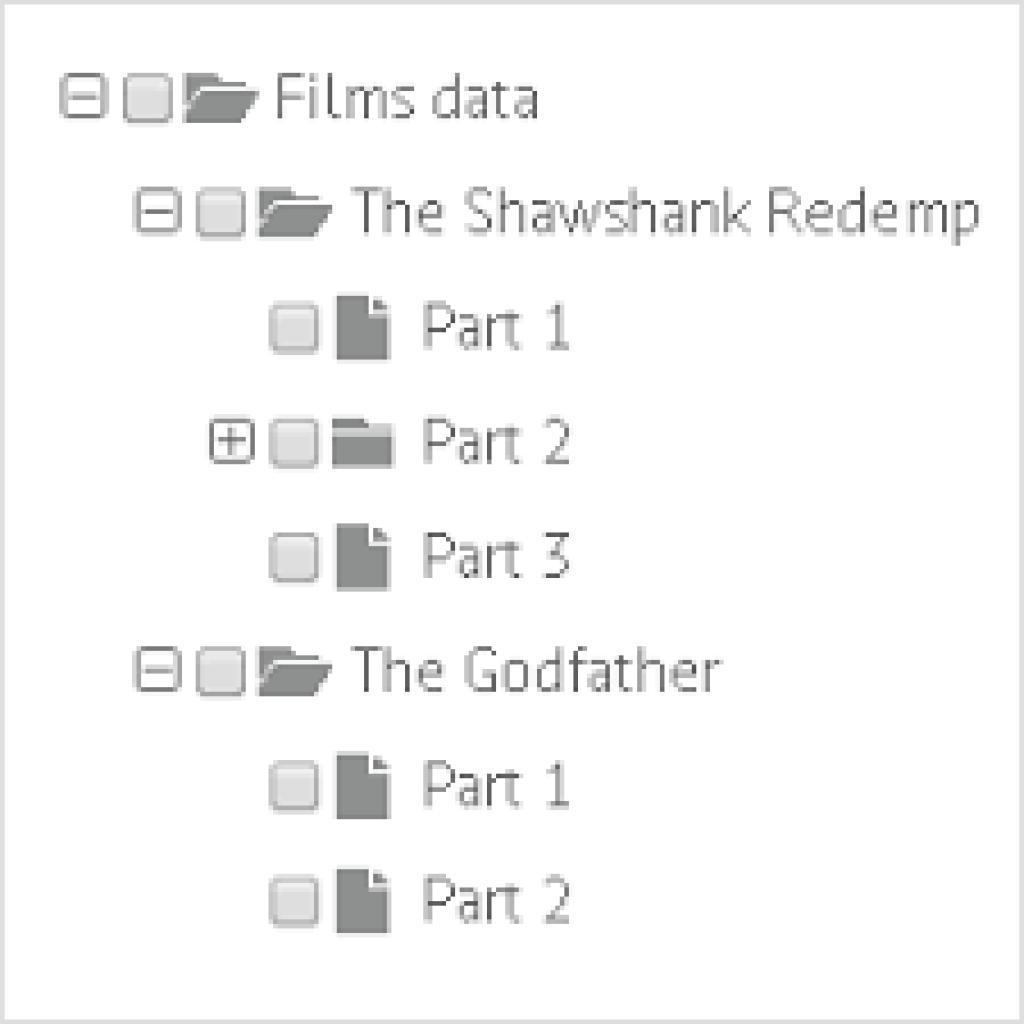checkbox: (194, 185, 251, 246), (268, 416, 325, 475), (268, 301, 324, 361), (194, 646, 251, 704), (121, 71, 177, 129), (267, 532, 324, 588), (269, 759, 324, 815), (270, 877, 323, 932)
